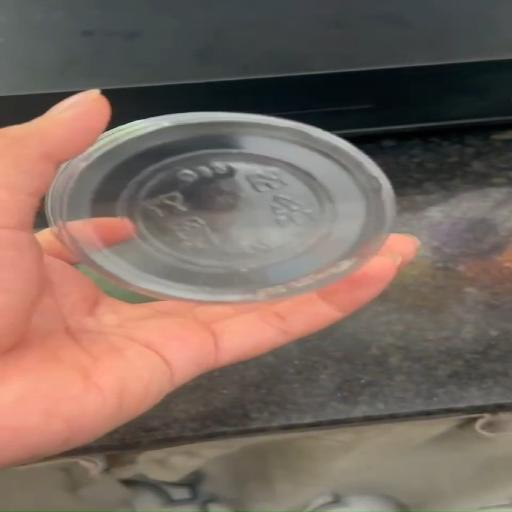ly_nhua: (46, 112, 395, 302)
